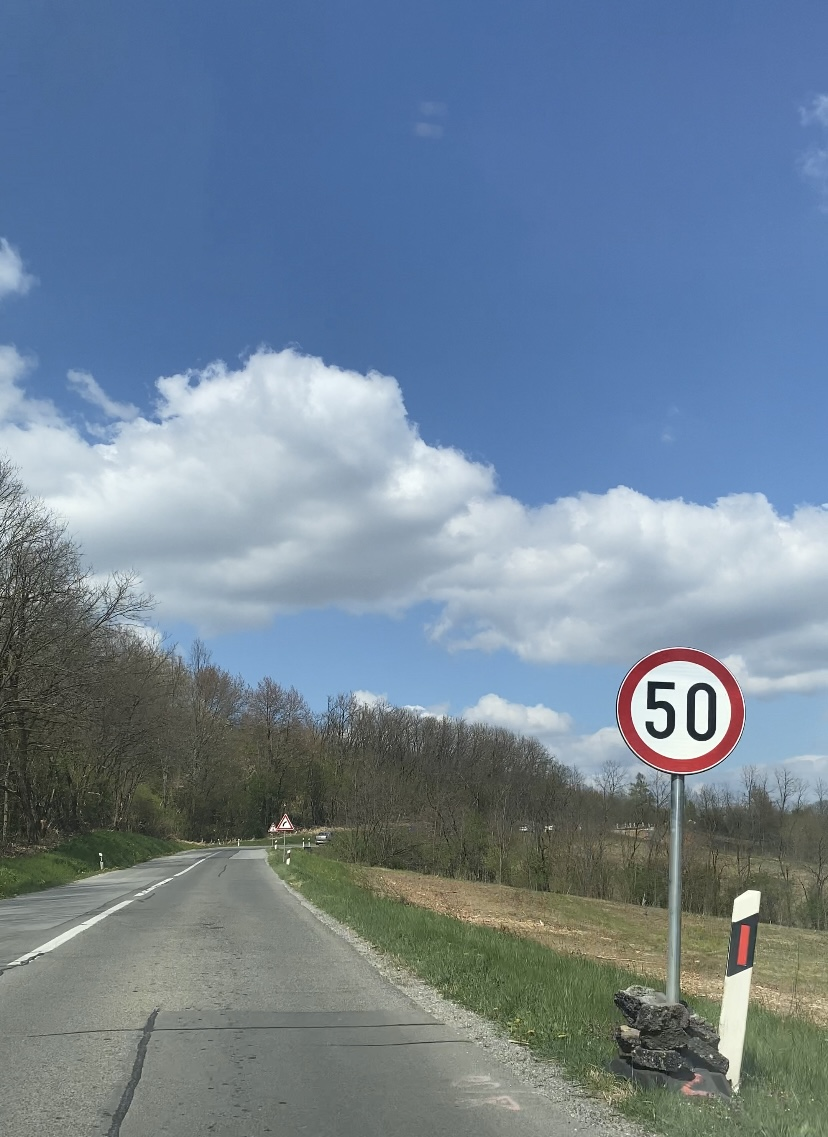Ograničenje brzine 50: (616, 646, 746, 774)
